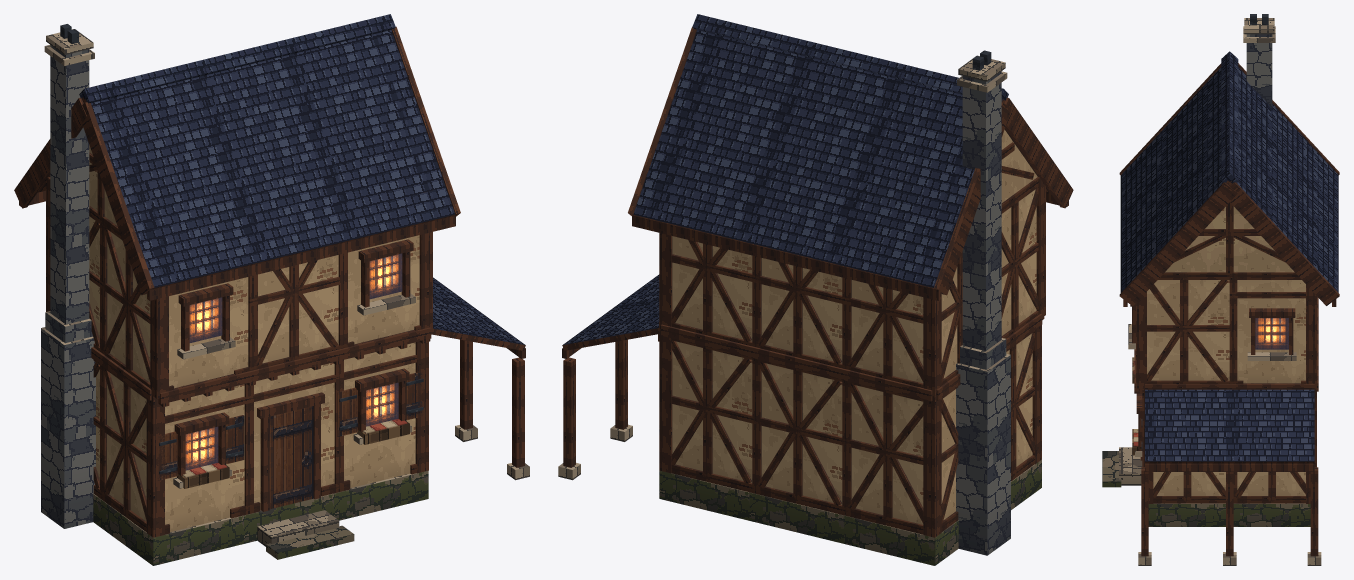
The model's file is MV_House_B.glb.
3 renders of one model, left to right at view 1: azimuth 30°, elevation 25°; view 2: azimuth 150°, elevation 25°; view 3: azimuth 270°, elevation 25°, orthographic. The views are drawn at different scales.
Parts seen in each view (by area): view 1: MV_Chimney_Stone_B.MV_House_B, MV_Roof_Gable_2m_A.MV_House_B, MV_Roof_Gable_2m_A.MV_House_B.001, MV_Roof_Gable_2m_A.MV_House_B.002, MV_Wall_Timber_2m_A.MV_House_B.007, MV_Roof_GableEnd_A.MV_House_B, MV_Door_Wood_A.MV_House_B, MV_Wall_Timber_2m_A.MV_House_B.006, MV_Wall_Timber_2m_A.MV_House_B.013, MV_Wall_Timber_2m_B.MV_House_B.002, MV_Wall_Timber_2m_B.MV_House_B, MV_Wall_Timber_2m_B.MV_House_B.001 (+29 smaller); view 2: MV_Chimney_Stone_B.MV_House_B, MV_Roof_Gable_2m_A.MV_House_B.002, MV_Roof_Gable_2m_A.MV_House_B.001, MV_Roof_Gable_2m_A.MV_House_B, MV_Wall_Timber_2m_A.MV_House_B.003, MV_Wall_Timber_2m_A.MV_House_B.004, MV_Wall_Timber_2m_A.MV_House_B.002, MV_Wall_Timber_2m_A.MV_House_B.010, MV_Wall_Timber_2m_A.MV_House_B.011, MV_Wall_Timber_2m_A.MV_House_B.009, MV_Roof_GableEnd_A.MV_House_B, MV_Wall_Timber_2m_A.MV_House_B.013 (+22 smaller); view 3: MV_Wall_Timber_2m_A.MV_House_B.008, MV_Roof_Gable_2m_A.MV_House_B.001, MV_Roof_Gable_2m_A.MV_House_B, MV_Roof_Gable_2m_A.MV_House_B.002, MV_Roof_LeanToSlate_2m_A.MV_House_B.001, MV_Roof_LeanToSlate_2m_A.MV_House_B, MV_Roof_GableEnd_A.MV_House_B.001, MV_Wall_Timber_2m_B.MV_House_B.005, MV_Wall_Gable_4m_A.MV_House_B.001, MV_Wall_Timber_2m_A.MV_House_B, MV_Wall_Timber_2m_A.MV_House_B.001, MV_Window_Small_A.MV_House_B.002 (+15 smaller).
Boxes of the visible parts, box(x1,y1,x2,y2) form: MV_Chimney_Stone_B.MV_House_B: box(41, 24, 95, 528); MV_Roof_Gable_2m_A.MV_House_B: box(39, 62, 259, 296); MV_Roof_Gable_2m_A.MV_House_B.001: box(192, 40, 349, 274); MV_Roof_Gable_2m_A.MV_House_B.002: box(282, 18, 439, 252); MV_Wall_Timber_2m_A.MV_House_B.007: box(248, 255, 339, 370); MV_Roof_GableEnd_A.MV_House_B: box(14, 84, 169, 300); MV_Door_Wood_A.MV_House_B: box(257, 392, 324, 511); MV_Wall_Timber_2m_A.MV_House_B.006: box(100, 364, 165, 532); MV_Wall_Timber_2m_A.MV_House_B.013: box(100, 215, 169, 387); MV_Wall_Timber_2m_B.MV_House_B.002: box(334, 343, 416, 492); MV_Wall_Timber_2m_B.MV_House_B: box(165, 384, 245, 534); MV_Wall_Timber_2m_B.MV_House_B.001: box(244, 362, 335, 514); MV_Chimney_Stone_B.MV_House_B: box(956, 50, 1010, 555); MV_Roof_Gable_2m_A.MV_House_B.002: box(648, 18, 805, 252); MV_Roof_Gable_2m_A.MV_House_B.001: box(738, 40, 895, 274); MV_Roof_Gable_2m_A.MV_House_B: box(829, 62, 1048, 296); MV_Wall_Timber_2m_A.MV_House_B.003: box(752, 358, 842, 514); MV_Wall_Timber_2m_A.MV_House_B.004: box(842, 380, 923, 534); MV_Wall_Timber_2m_A.MV_House_B.002: box(671, 338, 752, 492); MV_Wall_Timber_2m_A.MV_House_B.010: box(752, 255, 842, 367); MV_Wall_Timber_2m_A.MV_House_B.011: box(842, 277, 923, 387); MV_Wall_Timber_2m_A.MV_House_B.009: box(671, 236, 752, 345); MV_Roof_GableEnd_A.MV_House_B: box(919, 88, 1073, 300); MV_Wall_Timber_2m_A.MV_House_B.013: box(1001, 177, 1039, 338); MV_Wall_Timber_2m_A.MV_House_B.008: box(1147, 272, 1229, 384); MV_Roof_Gable_2m_A.MV_House_B.001: box(1120, 94, 1338, 252); MV_Roof_Gable_2m_A.MV_House_B: box(1120, 58, 1338, 216); MV_Roof_Gable_2m_A.MV_House_B.002: box(1120, 130, 1338, 288); MV_Roof_LeanToSlate_2m_A.MV_House_B.001: box(1229, 389, 1314, 471); MV_Roof_LeanToSlate_2m_A.MV_House_B: box(1145, 389, 1229, 471); MV_Roof_GableEnd_A.MV_House_B.001: box(1119, 166, 1339, 306); MV_Wall_Timber_2m_B.MV_House_B.005: box(1229, 272, 1305, 384); MV_Wall_Gable_4m_A.MV_House_B.001: box(1165, 202, 1294, 273); MV_Wall_Timber_2m_A.MV_House_B: box(1153, 472, 1225, 503); MV_Wall_Timber_2m_A.MV_House_B.001: box(1233, 472, 1305, 503); MV_Window_Small_A.MV_House_B.002: box(1247, 308, 1296, 360).
Size of the model in its own units: 8.95 by 10.34 by 5.61.
11 materials, 11 textured.
